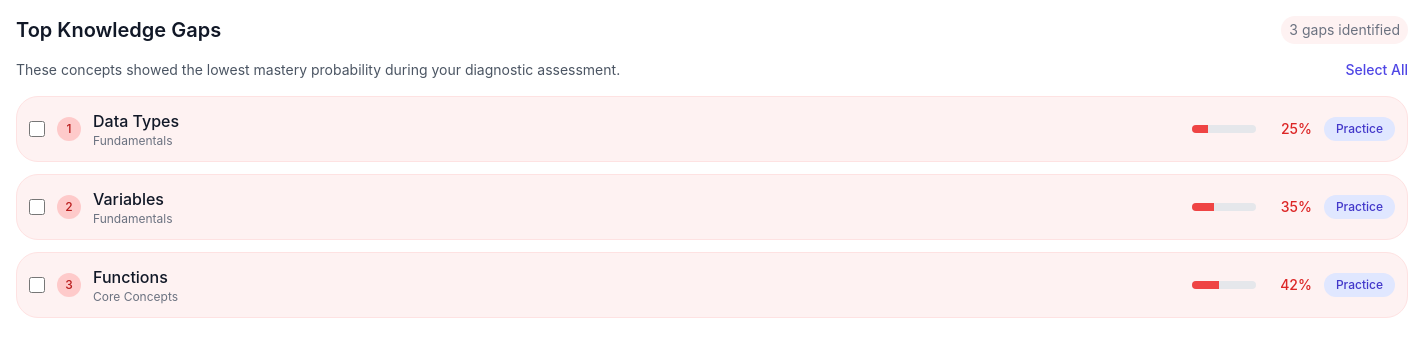
Test: GapHighlights › Practice functionality › selects all when Select All is clicked
The image size is (1426, 339).
Click the button "Select All": (1377, 70) [1345,60,1408,80]
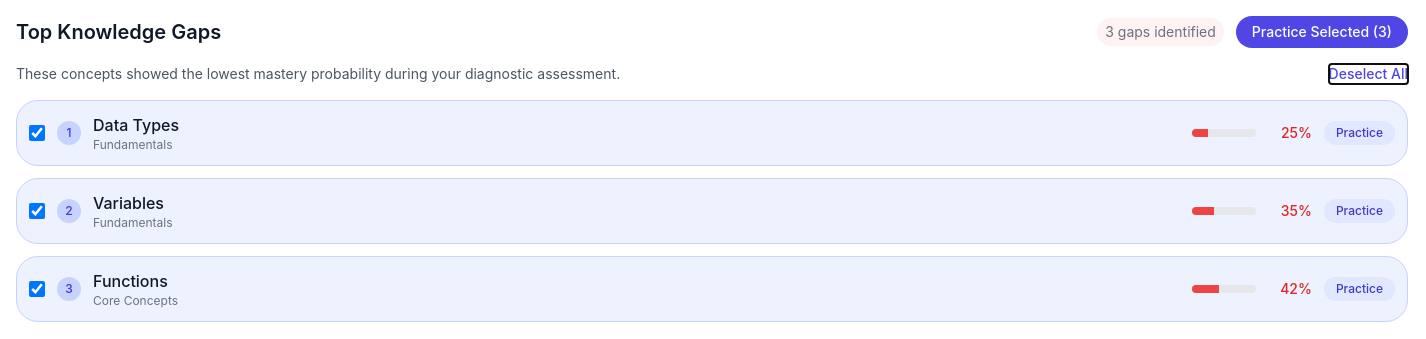
Result: the checkbox named "Select Data Types for practice" is checked at [29,125,45,141]
Result: the checkbox named "Select Variables for practice" is checked at [29,203,45,219]
Result: the checkbox named "Select Functions for practice" is checked at [29,281,45,297]
